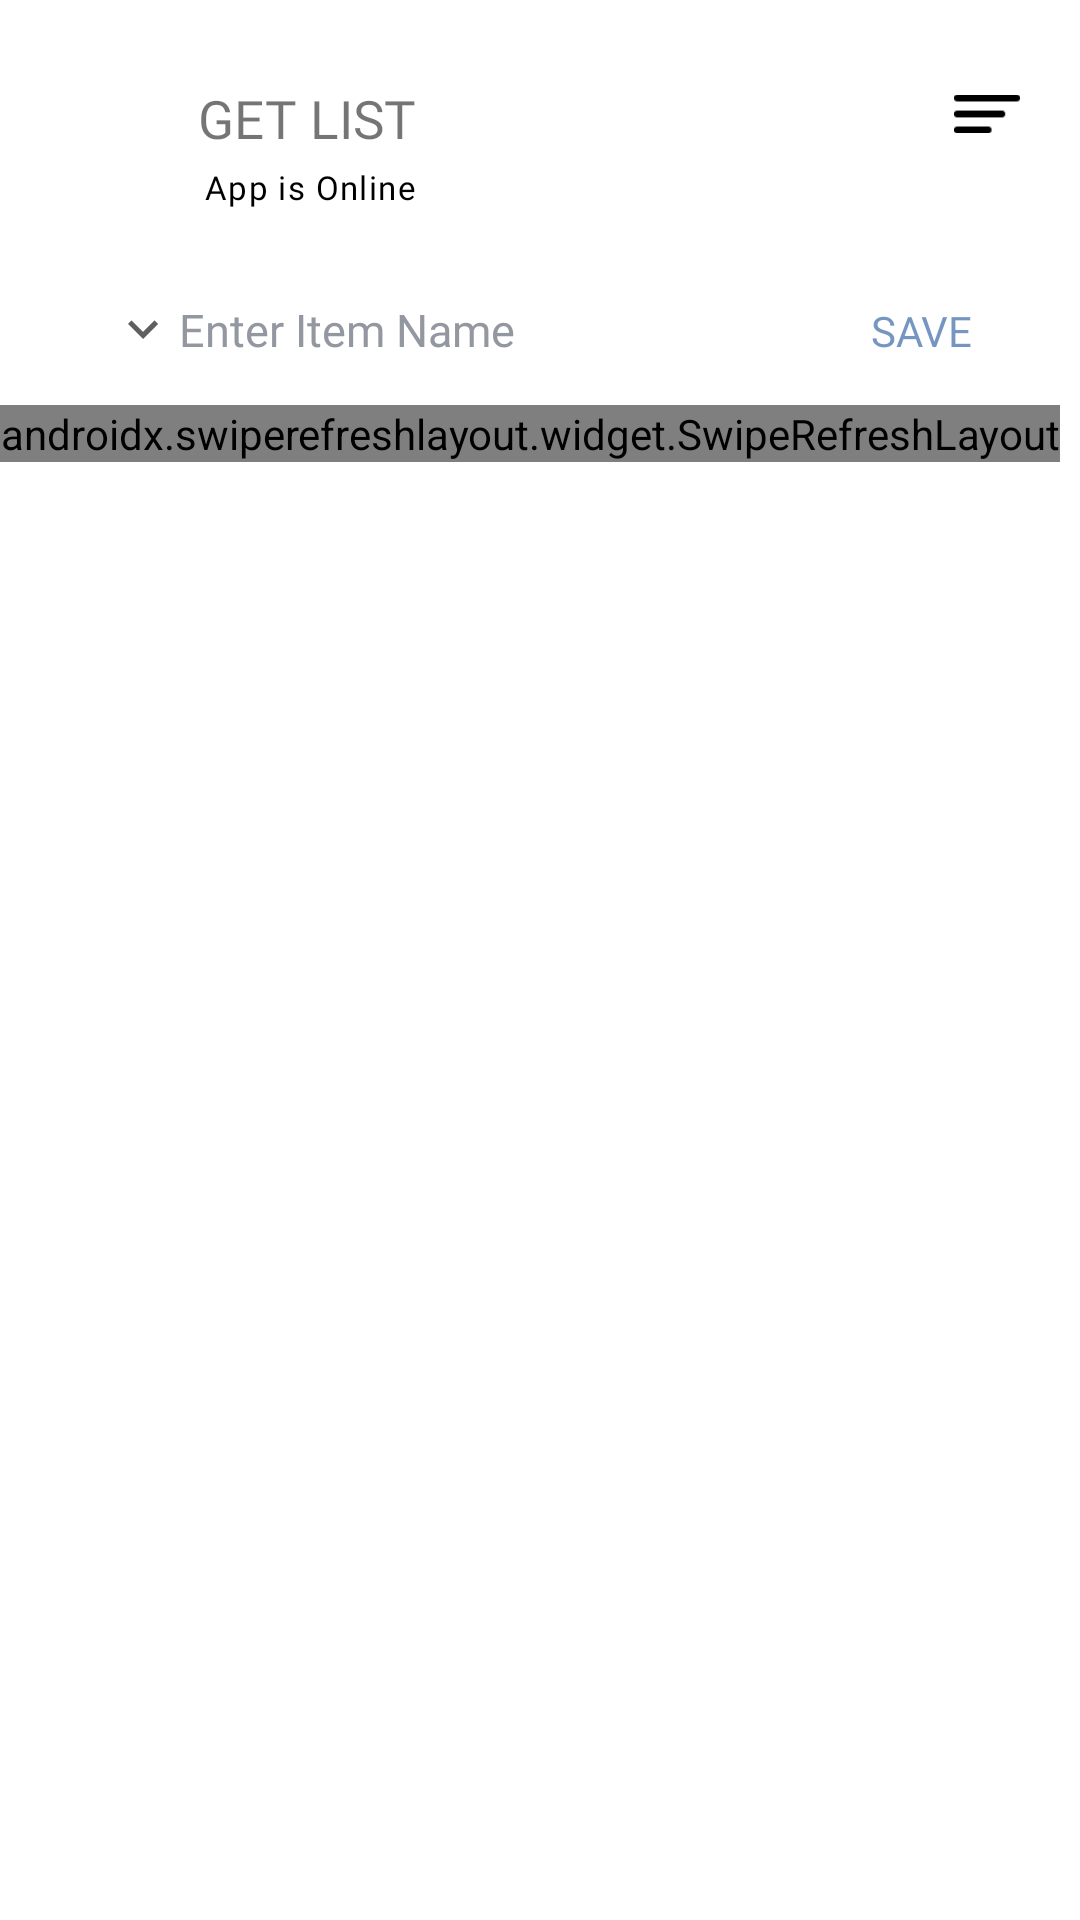

Screen size 1080px x 1920px. Icon name, then its box in pixels as bbox=(x1, y1, x2, y2):
expand: bbox=(128, 320, 158, 339)
menu: bbox=(954, 95, 1020, 133)
